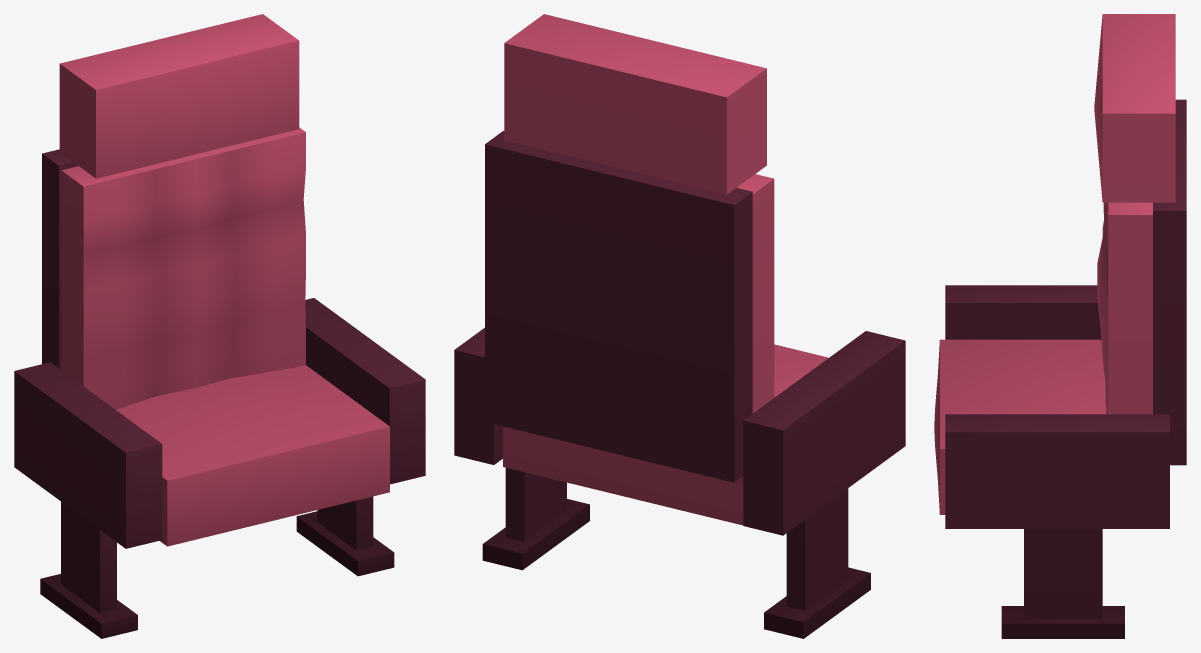
The model's file is standard_lod1.glb.
3 views of the same model, side by side, from view 1: azimuth 30°, elevation 25°; view 2: azimuth 150°, elevation 25°; view 3: azimuth 270°, elevation 25° (orthographic). The views are drawn at different scales.
Parts seen in each view (by area): view 1: StandardSeat_LOD1; view 2: StandardSeat_LOD1; view 3: StandardSeat_LOD1.
Boxes of the visible parts, <box> form: StandardSeat_LOD1: <box>14,14,425,638</box>; StandardSeat_LOD1: <box>454,14,905,638</box>; StandardSeat_LOD1: <box>934,14,1186,638</box>.
Bounding box in the file's own units: 1.24 × 2 × 0.9.
